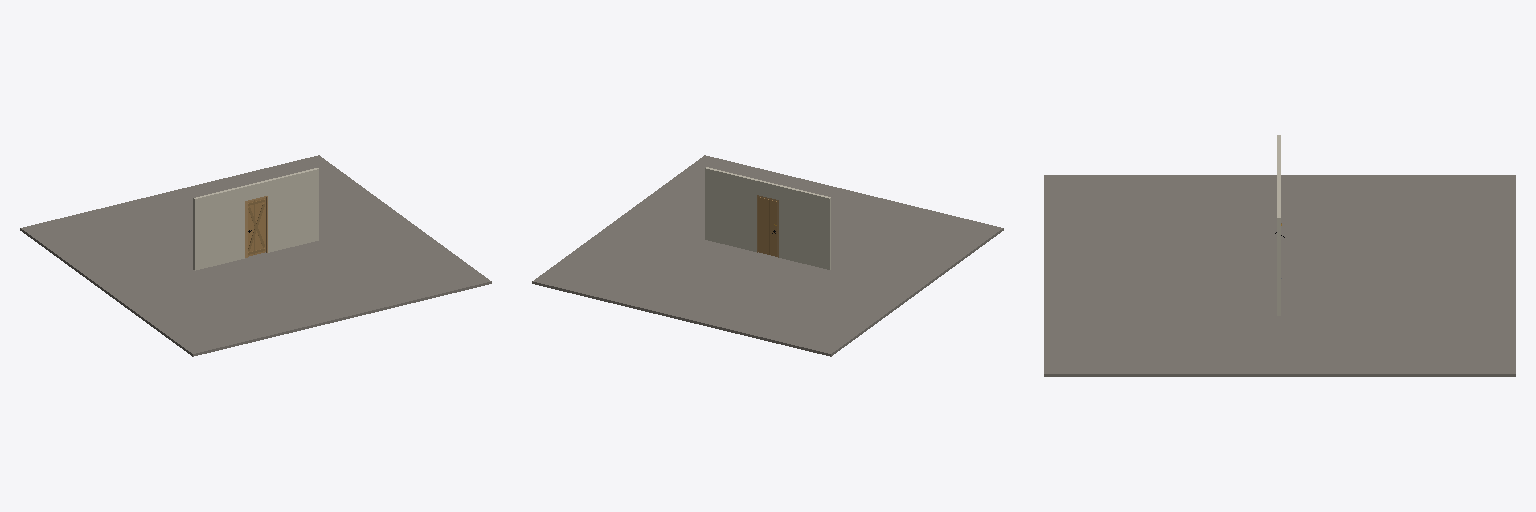
robot.urdf — db0855_swing_single_full:
<?xml version="1.0" ?>
<robot xmlns:doorbench="https://github.com/adamraudonis/DoorBench/schema/urdf-ext" name="db0855_swing_single_full">
  <link name="world_env">
    <visual name="floor_vis">
      <origin xyz="0 0 -0.05" rpy="0 0 0"/>
      <geometry>
        <box size="12 12 0.1"/>
      </geometry>
      <material name="mat_floor"/>
    </visual>
    <collision name="floor_col">
      <origin xyz="0 0 -0.05" rpy="0 0 0"/>
      <geometry>
        <box size="12 12 0.1"/>
      </geometry>
    </collision>
    <visual name="wall_left_vis">
      <origin xyz="-1.4875 -0.0285 1.3735" rpy="0 0 0"/>
      <geometry>
        <box size="2.025 0.115 2.747"/>
      </geometry>
      <material name="mat_wall"/>
    </visual>
    <collision name="wall_left_col">
      <origin xyz="-1.4875 -0.0285 1.3735" rpy="0 0 0"/>
      <geometry>
        <box size="2.025 0.115 2.747"/>
      </geometry>
    </collision>
    <visual name="wall_right_vis">
      <origin xyz="1.4725 -0.0285 1.3735" rpy="0 0 0"/>
      <geometry>
        <box size="2.055 0.115 2.747"/>
      </geometry>
      <material name="mat_wall"/>
    </visual>
    <collision name="wall_right_col">
      <origin xyz="1.4725 -0.0285 1.3735" rpy="0 0 0"/>
      <geometry>
        <box size="2.055 0.115 2.747"/>
      </geometry>
    </collision>
    <visual name="wall_header_vis">
      <origin xyz="-0.015 -0.0285 2.492" rpy="0 0 0"/>
      <geometry>
        <box size="0.92 0.115 0.51"/>
      </geometry>
      <material name="mat_wall"/>
    </visual>
    <collision name="wall_header_col">
      <origin xyz="-0.015 -0.0285 2.492" rpy="0 0 0"/>
      <geometry>
        <box size="0.92 0.115 0.51"/>
      </geometry>
    </collision>
    <visual name="hinge_0_jamb_vis">
      <origin xyz="0.382 0.029 0.259" rpy="0 0 3.141593"/>
      <geometry>
        <mesh filename="../../hardware/hinge_jamb_24fdb06e8a.obj"/>
      </geometry>
      <material name="mat_hinge"/>
    </visual>
    <visual name="hinge_1_jamb_vis">
      <origin xyz="0.382 0.029 1.0708" rpy="0 0 3.141593"/>
      <geometry>
        <mesh filename="../../hardware/hinge_jamb_24fdb06e8a.obj"/>
      </geometry>
      <material name="mat_hinge"/>
    </visual>
    <visual name="hinge_2_jamb_vis">
      <origin xyz="0.382 0.029 1.9526" rpy="0 0 3.141593"/>
      <geometry>
        <mesh filename="../../hardware/hinge_jamb_24fdb06e8a.obj"/>
      </geometry>
      <material name="mat_hinge"/>
    </visual>
    <visual name="leaf_aux_bolt_keeper_b_vis">
      <origin xyz="-0.3845 0.034 1.202" rpy="1.570796 0 1.570796"/>
      <geometry>
        <box size="0.028 0.006 0.001"/>
      </geometry>
      <material name="mat_op_brass"/>
    </visual>
    <visual name="leaf_aux_bolt_keeper_l_vis">
      <origin xyz="-0.3845 0.023 1.215" rpy="1.570796 0 1.570796"/>
      <geometry>
        <box size="0.006 0.02 0.001"/>
      </geometry>
      <material name="mat_op_brass"/>
    </visual>
    <visual name="leaf_aux_bolt_keeper_t_vis">
      <origin xyz="-0.3845 0.034 1.228" rpy="1.570796 0 1.570796"/>
      <geometry>
        <box size="0.028 0.006 0.001"/>
      </geometry>
      <material name="mat_op_brass"/>
    </visual>
    <visual name="leaf_aux_bolt_keeper_r_vis">
      <origin xyz="-0.3845 0.045 1.215" rpy="1.570796 0 1.570796"/>
      <geometry>
        <box size="0.006 0.02 0.001"/>
      </geometry>
      <material name="mat_op_brass"/>
    </visual>
    <visual name="jamb_hinge_vis">
      <origin xyz="0.415 -0.0285 1.0735" rpy="0 0 0"/>
      <geometry>
        <box size="0.06 0.115 2.147"/>
      </geometry>
      <material name="mat_frame"/>
    </visual>
    <collision name="jamb_hinge_col">
      <origin xyz="0.415 -0.0285 1.0735" rpy="0 0 0"/>
      <geometry>
        <box size="0.06 0.115 2.147"/>
      </geometry>
    </collision>
    <visual name="strike_1215_wall_n_vis">
      <origin xyz="-0.43 -0.03 1.215" rpy="0 0 0"/>
      <geometry>
        <box size="0.09 0.112 0.02"/>
      </geometry>
      <material name="mat_frame"/>
    </visual>
    <collision name="strike_1215_wall_n_col">
      <origin xyz="-0.43 -0.03 1.215" rpy="0 0 0"/>
      <geometry>
        <box size="0.09 0.112 0.02"/>
      </geometry>
    </collision>
    <visual name="strike_1215_wall_p_vis">
      <origin xyz="-0.407 0.045 1.215" rpy="0 0 0"/>
      <geometry>
        <box size="0.044 0.006 0.02"/>
      </geometry>
      <material name="mat_frame"/>
    </visual>
    <collision name="strike_1215_wall_p_col">
      <origin xyz="-0.407 0.045 1.215" rpy="0 0 0"/>
      <geometry>
        <box size="0.044 0.006 0.02"/>
      </geometry>
    </collision>
    <visual name="strike_1215_back_vis">
      <origin xyz="-0.451 0.034 1.215" rpy="0 0 0"/>
      <geometry>
        <box size="0.048 0.016 0.02"/>
      </geometry>
      <material name="mat_frame"/>
    </visual>
    <collision name="strike_1215_back_col">
      <origin xyz="-0.451 0.034 1.215" rpy="0 0 0"/>
      <geometry>
        <box size="0.048 0.016 0.02"/>
      </geometry>
    </collision>
    <visual name="jamb_strike_0_vis">
      <origin xyz="-0.43 -0.0285 0.6025" rpy="0 0 0"/>
      <geometry>
        <box size="0.09 0.115 1.205"/>
      </geometry>
      <material name="mat_frame"/>
    </visual>
    <collision name="jamb_strike_0_col">
      <origin xyz="-0.43 -0.0285 0.6025" rpy="0 0 0"/>
      <geometry>
        <box size="0.09 0.115 1.205"/>
      </geometry>
    </collision>
    <visual name="jamb_strike_1_vis">
      <origin xyz="-0.43 -0.0285 1.686" rpy="0 0 0"/>
      <geometry>
        <box size="0.09 0.115 0.922"/>
      </geometry>
      <material name="mat_frame"/>
    </visual>
    <collision name="jamb_strike_1_col">
      <origin xyz="-0.43 -0.0285 1.686" rpy="0 0 0"/>
      <geometry>
        <box size="0.09 0.115 0.922"/>
      </geometry>
    </collision>
    <visual name="jamb_head_vis">
      <origin xyz="-0.015 -0.0285 2.177" rpy="0 0 0"/>
      <geometry>
        <box size="0.92 0.115 0.06"/>
      </geometry>
      <material name="mat_frame"/>
    </visual>
    <collision name="jamb_head_col">
      <origin xyz="-0.015 -0.0285 2.177" rpy="0 0 0"/>
      <geometry>
        <box size="0.92 0.115 0.06"/>
      </geometry>
    </collision>
    <visual name="head_stud_vis">
      <origin xyz="-0.015 -0.0285 2.222" rpy="0 0 0"/>
      <geometry>
        <box size="0.92 0.115 0.03"/>
      </geometry>
      <material name="mat_wall"/>
    </visual>
    <collision name="head_stud_col">
      <origin xyz="-0.015 -0.0285 2.222" rpy="0 0 0"/>
      <geometry>
        <box size="0.92 0.115 0.03"/>
      </geometry>
    </collision>
    <visual name="stop_hinge_vis">
      <origin xyz="0.3795 -0.0385 1.0735" rpy="0 0 0"/>
      <geometry>
        <box size="0.011 0.032 2.147"/>
      </geometry>
      <material name="mat_frame"/>
    </visual>
    <collision name="stop_hinge_col">
      <origin xyz="0.3795 -0.0385 1.0735" rpy="0 0 0"/>
      <geometry>
        <box size="0.011 0.032 2.147"/>
      </geometry>
    </collision>
    <visual name="stop_strike_vis">
      <origin xyz="-0.3795 -0.0385 1.0735" rpy="0 0 0"/>
      <geometry>
        <box size="0.011 0.032 2.147"/>
      </geometry>
      <material name="mat_frame"/>
    </visual>
    <collision name="stop_strike_col">
      <origin xyz="-0.3795 -0.0385 1.0735" rpy="0 0 0"/>
      <geometry>
        <box size="0.011 0.032 2.147"/>
      </geometry>
    </collision>
    <visual name="stop_head_vis">
      <origin xyz="0 -0.0385 2.1415" rpy="0 0 0"/>
      <geometry>
        <box size="0.77 0.032 0.011"/>
      </geometry>
      <material name="mat_frame"/>
    </visual>
    <collision name="stop_head_col">
      <origin xyz="0 -0.0385 2.1415" rpy="0 0 0"/>
      <geometry>
        <box size="0.77 0.032 0.011"/>
      </geometry>
    </collision>
  </link>
  <link name="leaf_riser">
    <inertial>
      <origin xyz="-0.003 0.029 0.055" rpy="0 0 0"/>
      <mass value="0.174012"/>
      <inertia ixx="0.00002732" ixy="0" ixz="0" iyy="0.00002732" iyz="0" izz="0.000017053"/>
    </inertial>
    <visual name="leaf_riser_marker_vis">
      <origin xyz="-0.003 0.029 0.055" rpy="0 0 0"/>
      <geometry>
        <cylinder radius="0.014" length="0.036"/>
      </geometry>
      <material name="mat_hinge"/>
    </visual>
  </link>
  <link name="leaf">
    <inertial>
      <origin xyz="-0.380926 -0.028479 1.069197" rpy="0 0 0"/>
      <mass value="30.383705"/>
      <inertia ixx="11.193955824" ixy="-0.00348352" ixz="-0.022172834" iyy="12.743243237" iyz="0.000106829" izz="1.563903363"/>
    </inertial>
    <visual name="leaf_slab_vis">
      <origin xyz="-0.381 -0.029 1.0708" rpy="0 0 0"/>
      <geometry>
        <box size="0.762 0.044 2.1236"/>
      </geometry>
      <material name="mat_leaf"/>
    </visual>
    <collision name="leaf_slab_col">
      <origin xyz="-0.381 -0.029 1.0708" rpy="0 0 0"/>
      <geometry>
        <box size="0.762 0.044 2.1236"/>
      </geometry>
    </collision>
    <visual name="leaf_plank_gap_1_vis">
      <origin xyz="-0.1524 -0.029 1.0708" rpy="0 0 0"/>
      <geometry>
        <box size="0.004 0.046 2.1036"/>
      </geometry>
      <material name="mat_leaf_brace"/>
    </visual>
    <visual name="leaf_plank_gap_2_vis">
      <origin xyz="-0.3048 -0.029 1.0708" rpy="0 0 0"/>
      <geometry>
        <box size="0.004 0.046 2.1036"/>
      </geometry>
      <material name="mat_leaf_brace"/>
    </visual>
    <visual name="leaf_plank_gap_3_vis">
      <origin xyz="-0.4572 -0.029 1.0708" rpy="0 0 0"/>
      <geometry>
        <box size="0.004 0.046 2.1036"/>
      </geometry>
      <material name="mat_leaf_brace"/>
    </visual>
    <visual name="leaf_plank_gap_4_vis">
      <origin xyz="-0.6096 -0.029 1.0708" rpy="0 0 0"/>
      <geometry>
        <box size="0.004 0.046 2.1036"/>
      </geometry>
      <material name="mat_leaf_brace"/>
    </visual>
    <visual name="leaf_batten_12_vis">
      <origin xyz="-0.381 -0.061 0.129" rpy="0 0 0"/>
      <geometry>
        <box size="0.702 0.02 0.09"/>
      </geometry>
      <material name="mat_leaf_brace"/>
    </visual>
    <visual name="leaf_batten_201_vis">
      <origin xyz="-0.381 -0.061 2.0126" rpy="0 0 0"/>
      <geometry>
        <box size="0.702 0.02 0.09"/>
      </geometry>
      <material name="mat_leaf_brace"/>
    </visual>
    <visual name="leaf_brace_z_vis">
      <origin xyz="-0.381 -0.061 1.0708" rpy="0 1.213559 0"/>
      <geometry>
        <box size="1.773119 0.02 0.09"/>
      </geometry>
      <material name="mat_leaf_brace"/>
    </visual>
    <visual name="leaf_brace_x_vis">
      <origin xyz="-0.381 -0.061 1.0708" rpy="0 -1.213559 0"/>
      <geometry>
        <box size="1.773119 0.02 0.09"/>
      </geometry>
      <material name="mat_leaf_brace"/>
    </visual>
    <visual name="hinge_0_vis">
      <origin xyz="0 0 0.259" rpy="0 0 3.141593"/>
      <geometry>
        <mesh filename="../../hardware/hinge_7678ceaa91.obj"/>
      </geometry>
      <material name="mat_hinge"/>
    </visual>
    <visual name="hinge_1_vis">
      <origin xyz="0 0 1.0708" rpy="0 0 3.141593"/>
      <geometry>
        <mesh filename="../../hardware/hinge_7678ceaa91.obj"/>
      </geometry>
      <material name="mat_hinge"/>
    </visual>
    <visual name="hinge_2_vis">
      <origin xyz="0 0 1.9526" rpy="0 0 3.141593"/>
      <geometry>
        <mesh filename="../../hardware/hinge_7678ceaa91.obj"/>
      </geometry>
      <material name="mat_hinge"/>
    </visual>
    <visual name="leaf_ring_pull_n_vis">
      <origin xyz="-0.657 -0.051 0.965" rpy="-1.570796 0 3.141593"/>
      <geometry>
        <mesh filename="../../hardware/ring_cc5c941a8a.obj"/>
      </geometry>
      <material name="mat_op_wrought_iron"/>
    </visual>
    <collision name="leaf_ring_pull_col_n_col">
      <origin xyz="-0.657 -0.083 0.905" rpy="0 1.570796 0"/>
      <geometry>
        <cylinder radius="0.008" length="0.1"/>
      </geometry>
    </collision>
    <visual name="leaf_ring_pull_p_vis">
      <origin xyz="-0.657 -0.007 0.965" rpy="1.570796 0 3.141593"/>
      <geometry>
        <mesh filename="../../hardware/ring_cc5c941a8a.obj"/>
      </geometry>
      <material name="mat_op_wrought_iron"/>
    </visual>
    <collision name="leaf_ring_pull_col_p_col">
      <origin xyz="-0.657 0.025 0.905" rpy="0 1.570796 0"/>
      <geometry>
        <cylinder radius="0.008" length="0.1"/>
      </geometry>
    </collision>
    <visual name="leaf_aux_bolt_plate_vis">
      <origin xyz="-0.6945 -0.006 1.215" rpy="1.570796 0 3.141593"/>
      <geometry>
        <box size="0.119 0.038 0.002"/>
      </geometry>
      <material name="mat_op_brass"/>
    </visual>
    <visual name="leaf_aux_bolt_guide_0_leg_n_vis">
      <origin xyz="-0.746 0.0055 1.204" rpy="1.570796 0 3.141593"/>
      <geometry>
        <box size="0.012 0.004 0.025"/>
      </geometry>
      <material name="mat_op_brass"/>
    </visual>
    <visual name="leaf_aux_bolt_guide_0_leg_p_vis">
      <origin xyz="-0.746 0.0055 1.226" rpy="1.570796 0 3.141593"/>
      <geometry>
        <box size="0.012 0.004 0.025"/>
      </geometry>
      <material name="mat_op_brass"/>
    </visual>
    <visual name="leaf_aux_bolt_guide_0_bridge_vis">
      <origin xyz="-0.746 0.016 1.215" rpy="1.570796 0 3.141593"/>
      <geometry>
        <box size="0.012 0.026 0.004"/>
      </geometry>
      <material name="mat_op_brass"/>
    </visual>
    <visual name="leaf_aux_bolt_guide_1_leg_n_vis">
      <origin xyz="-0.645 0.0055 1.204" rpy="1.570796 0 3.141593"/>
      <geometry>
        <box size="0.012 0.004 0.025"/>
      </geometry>
      <material name="mat_op_brass"/>
    </visual>
    <visual name="leaf_aux_bolt_guide_1_leg_p_vis">
      <origin xyz="-0.645 0.0055 1.226" rpy="1.570796 0 3.141593"/>
      <geometry>
        <box size="0.012 0.004 0.025"/>
      </geometry>
      <material name="mat_op_brass"/>
    </visual>
    <visual name="leaf_aux_bolt_guide_1_bridge_vis">
      <origin xyz="-0.645 0.016 1.215" rpy="1.570796 0 3.141593"/>
      <geometry>
        <box size="0.012 0.026 0.004"/>
      </geometry>
      <material name="mat_op_brass"/>
    </visual>
  </link>
  <link name="leaf_aux_bolt">
    <inertial>
      <origin xyz="0.023563 0.00492 0" rpy="0 0 0"/>
      <mass value="0.111784"/>
      <inertia ixx="0.000012882" ixy="-0.00000629" ixz="0" iyy="0.000071315" iyz="0" izz="0.000082309"/>
    </inertial>
    <visual name="leaf_aux_bolt_rod_vis">
      <origin xyz="0.02 0 0" rpy="0 -1.570796 0"/>
      <geometry>
        <cylinder radius="0.006" length="0.088"/>
      </geometry>
      <material name="mat_op_brass"/>
    </visual>
    <collision name="leaf_aux_bolt_rod_col">
      <origin xyz="0.02 0 0" rpy="0 -1.570796 0"/>
      <geometry>
        <cylinder radius="0.006" length="0.088"/>
      </geometry>
    </collision>
    <visual name="leaf_aux_bolt_knob_vis">
      <origin xyz="0.035 0.015 0" rpy="-1.570796 0 0"/>
      <geometry>
        <cylinder radius="0.005" length="0.02"/>
      </geometry>
      <material name="mat_op_brass"/>
    </visual>
    <collision name="leaf_aux_bolt_knob_col">
      <origin xyz="0.035 0.015 0" rpy="-1.570796 0 0"/>
      <geometry>
        <cylinder radius="0.005" length="0.02"/>
      </geometry>
    </collision>
    <visual name="leaf_aux_bolt_knob_end_vis">
      <origin xyz="0.035 0.03 0" rpy="0 0 0"/>
      <geometry>
        <sphere radius="0.00675"/>
      </geometry>
      <material name="mat_op_brass"/>
    </visual>
  </link>
  <joint name="leaf_rise" type="prismatic">
    <origin xyz="0.385 0 0" rpy="0 0 0"/>
    <parent link="world_env"/>
    <child link="leaf_riser"/>
    <axis xyz="0 0 1"/>
    <limit lower="0" upper="0.0176" effort="5000" velocity="10"/>
    <dynamics damping="1" friction="0"/>
    <mimic joint="leaf_hinge" multiplier="0.005093" offset="0"/>
  </joint>
  <joint name="leaf_hinge" type="revolute">
    <origin xyz="-0.003 0.029 0" rpy="0 0 0"/>
    <parent link="leaf_riser"/>
    <child link="leaf"/>
    <axis xyz="0 0 -1"/>
    <limit lower="0" upper="1.396263" effort="2000" velocity="10"/>
    <dynamics damping="0.179937" friction="1.122697"/>
    <doorbench:closer damping_closing="0" damping_opening="0" backcheck_angle="0" backcheck_damping="0"/>
    <doorbench:note text="rising hinge: gravity closing torque ~ m*g*0.0051 N*m/rad"/>
  </joint>
  <joint name="leaf_aux_bolt_slide" type="prismatic">
    <origin xyz="-0.762 0.005 1.215" rpy="0 0 0"/>
    <parent link="leaf"/>
    <child link="leaf_aux_bolt"/>
    <axis xyz="1 0 0"/>
    <limit lower="0" upper="0.001" effort="5000" velocity="10"/>
    <dynamics damping="1" friction="1"/>
    <doorbench:note text="no inside access: bolt fixed"/>
  </joint>
  <material name="mat_floor">
    <color rgba="0.55 0.53 0.5 1"/>
  </material>
  <material name="mat_frame">
    <color rgba="0.7 0.58 0.42 1"/>
  </material>
  <material name="mat_hinge">
    <color rgba="0.55 0.56 0.58 1"/>
  </material>
  <material name="mat_leaf">
    <color rgba="0.67 0.543 0.367 1"/>
  </material>
  <material name="mat_leaf_brace">
    <color rgba="0.603 0.489 0.331 1"/>
  </material>
  <material name="mat_op_brass">
    <color rgba="0.85 0.66 0.3 1"/>
  </material>
  <material name="mat_op_wrought_iron">
    <color rgba="0.08 0.08 0.09 1"/>
  </material>
  <material name="mat_wall">
    <color rgba="0.78 0.76 0.7 1"/>
  </material>
</robot>

--- Facts derived from the render (not from the file) ---
Views: 3 orthographic renders of the robot side by side, from view 1: azimuth 30°, elevation 25°; view 2: azimuth 150°, elevation 25°; view 3: azimuth 270°, elevation 25°.
Model db0855_swing_single_full with 4 links and 3 joints (1 revolute, 2 prismatic), rooted at world_env, posed all joints at 0.
Visible links, largest first — view 1: world_env, leaf; view 2: world_env, leaf; view 3: world_env.
Link boxes in pixels (box(x1,y1,x2,y2)): world_env: box(20, 155, 491, 356); leaf: box(248, 198, 265, 256); world_env: box(532, 155, 1003, 356); leaf: box(758, 197, 776, 256); world_env: box(1044, 135, 1515, 376).
Size in the robot's own frame: 12 by 12 by 2.85 metres.
8 mesh visuals loaded from 3 distinct referenced files (3 OBJ).
